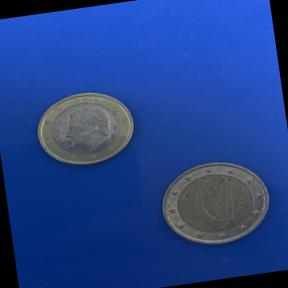coin: (148, 150, 280, 260), (25, 82, 144, 176)
